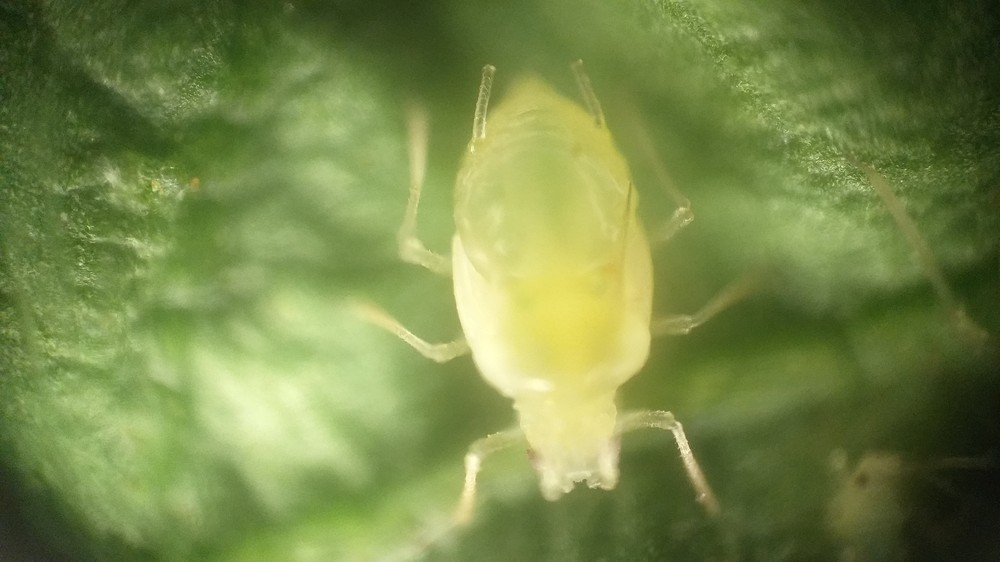Pulgon: (350, 66, 760, 552)
